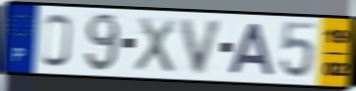0: (41, 13, 74, 68)
5: (278, 19, 318, 82)
9: (82, 11, 123, 73)
A: (226, 21, 276, 77)
V: (178, 17, 227, 77)
X: (132, 15, 177, 75)
